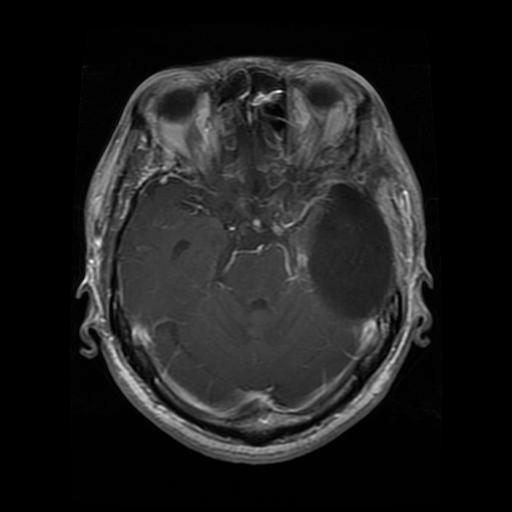Tumour-Glioma: (305, 181, 400, 326)
